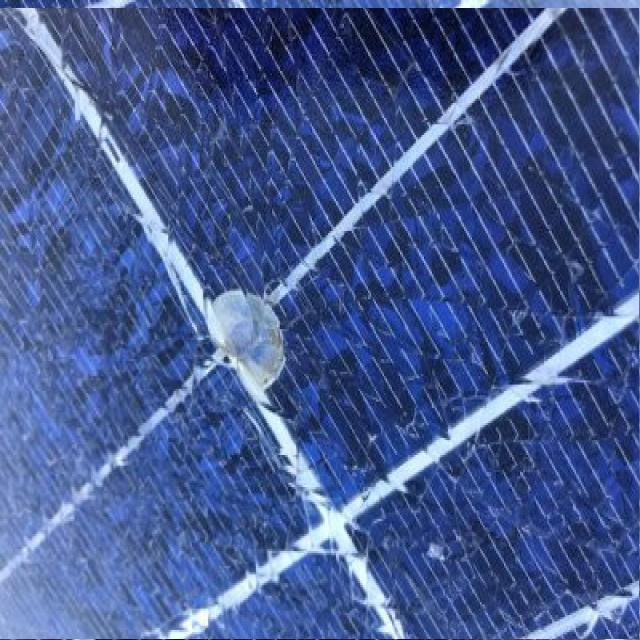Physical-damage: (1, 8, 639, 639)
